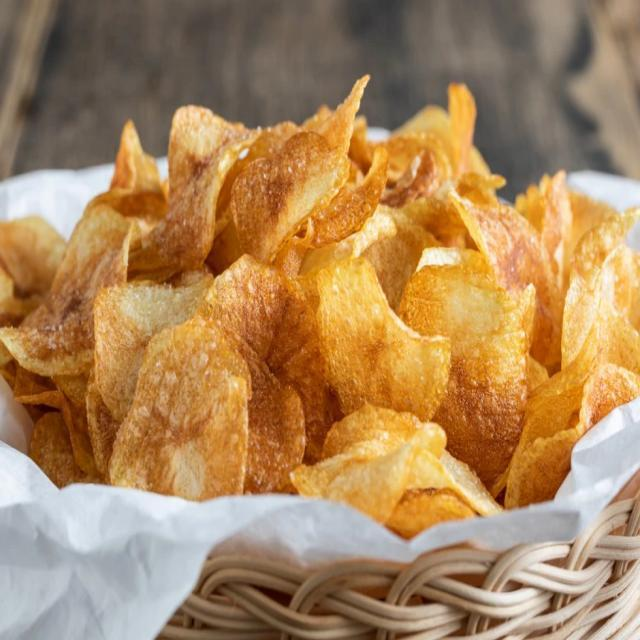Chips packaged: (107, 317, 237, 512), (319, 251, 451, 425), (16, 206, 138, 370), (293, 415, 457, 527), (231, 132, 307, 246)
